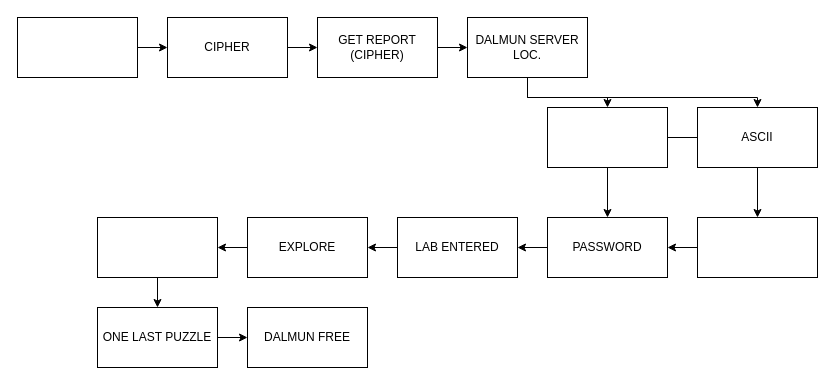
Image size: 835x385. Some labels were removed from this diagram. The centre of each missing label's shape, as x and y in pixels:
"END OF ROOM (DALMUN)" goes at [157,247].
"QR" goes at [607,137].
"REPORT 2 (JOURNAL?)" goes at [757,247].
"UFO GUMMIES" goes at [77,47].
